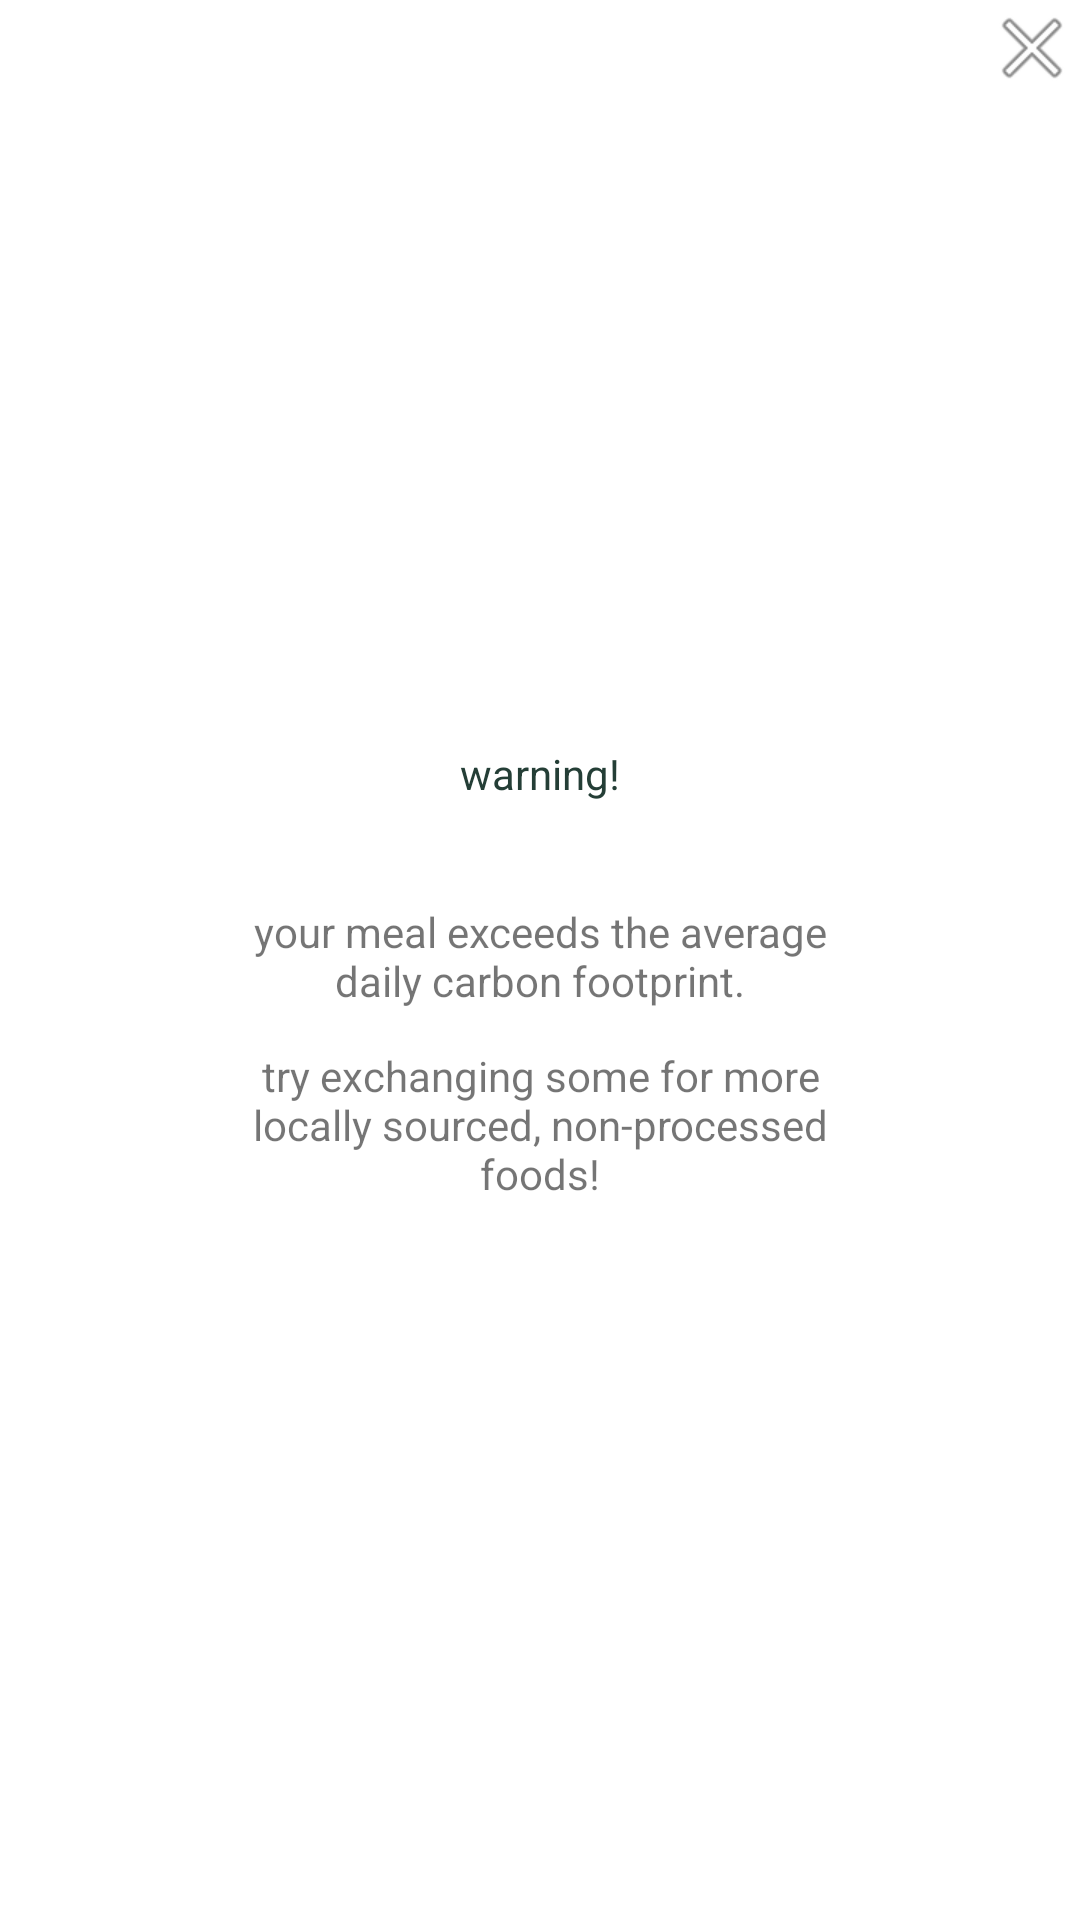

Icon click points for this 1080px x 1920px phone screenshot, format (x=x, y=y):
close clear cancel: (x=1032, y=48)
